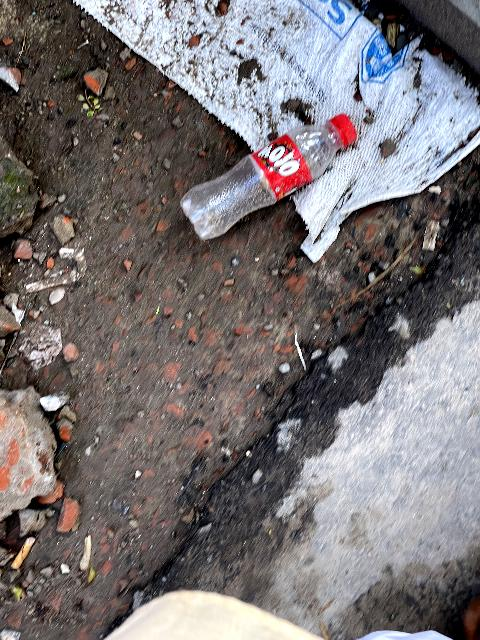bottle: (182, 105, 366, 248)
